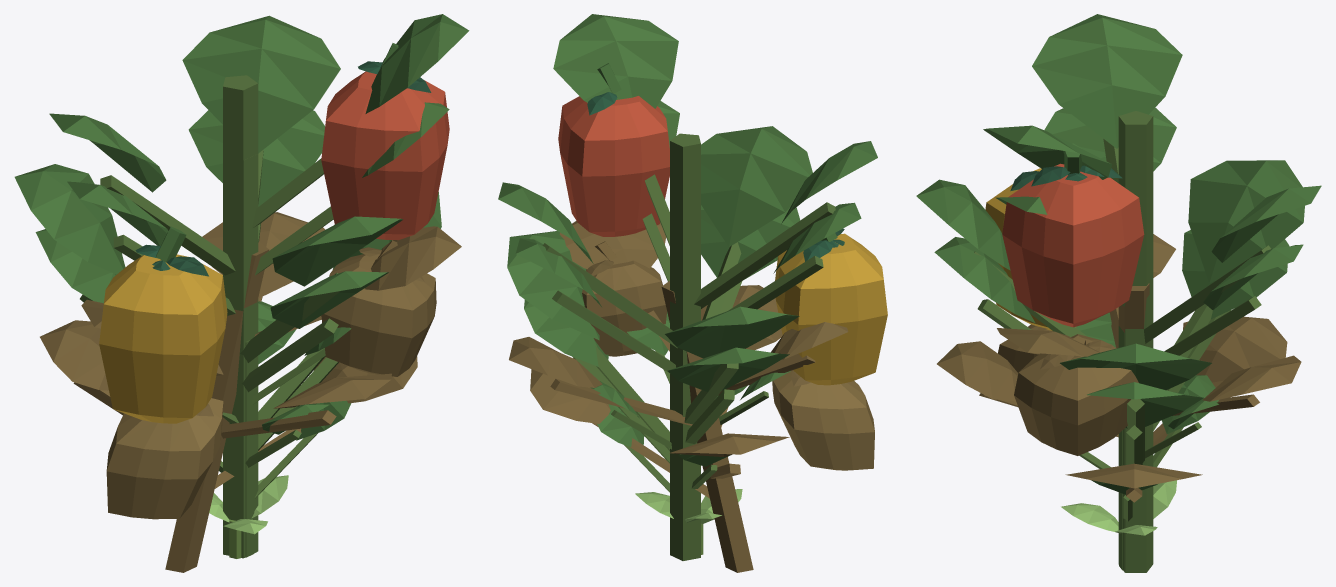
File: summer_pepper.glb
3 renders of one model, left to right at view 1: azimuth 30°, elevation 25°; view 2: azimuth 150°, elevation 25°; view 3: azimuth 270°, elevation 25°, orthographic. The views are drawn at different scales.
Parts seen in each view (by area): view 1: stage3, dead, stage2, stage1, stage0; view 2: stage3, dead, stage2, stage1, stage0; view 3: stage3, dead, stage2, stage1, stage0.
Part boxes in pixels (x1,y1,x2,y2): stage3: [14, 14, 469, 558]; dead: [40, 212, 461, 572]; stage2: [35, 102, 449, 557]; stage1: [219, 301, 351, 557]; stage0: [209, 475, 288, 558]; stage3: [498, 14, 887, 560]; dead: [509, 221, 874, 572]; stage2: [515, 101, 861, 463]; stage1: [590, 312, 790, 492]; stage0: [635, 489, 742, 554]; stage3: [916, 14, 1321, 572]; dead: [937, 234, 1301, 502]; stage2: [934, 107, 1303, 572]; stage1: [1076, 312, 1218, 570]; stage0: [1061, 480, 1176, 535].
Size of the model in its own units: 0.6287 by 0.8075 by 0.5824.
